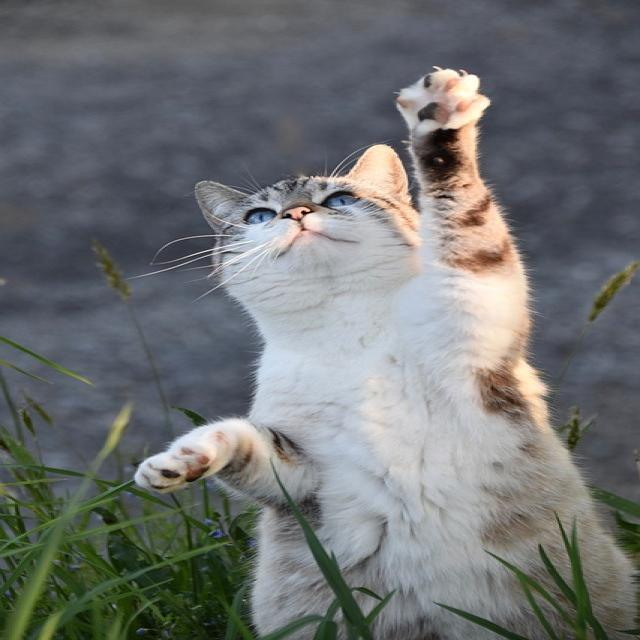Carnivorous: (133, 68, 640, 640)
